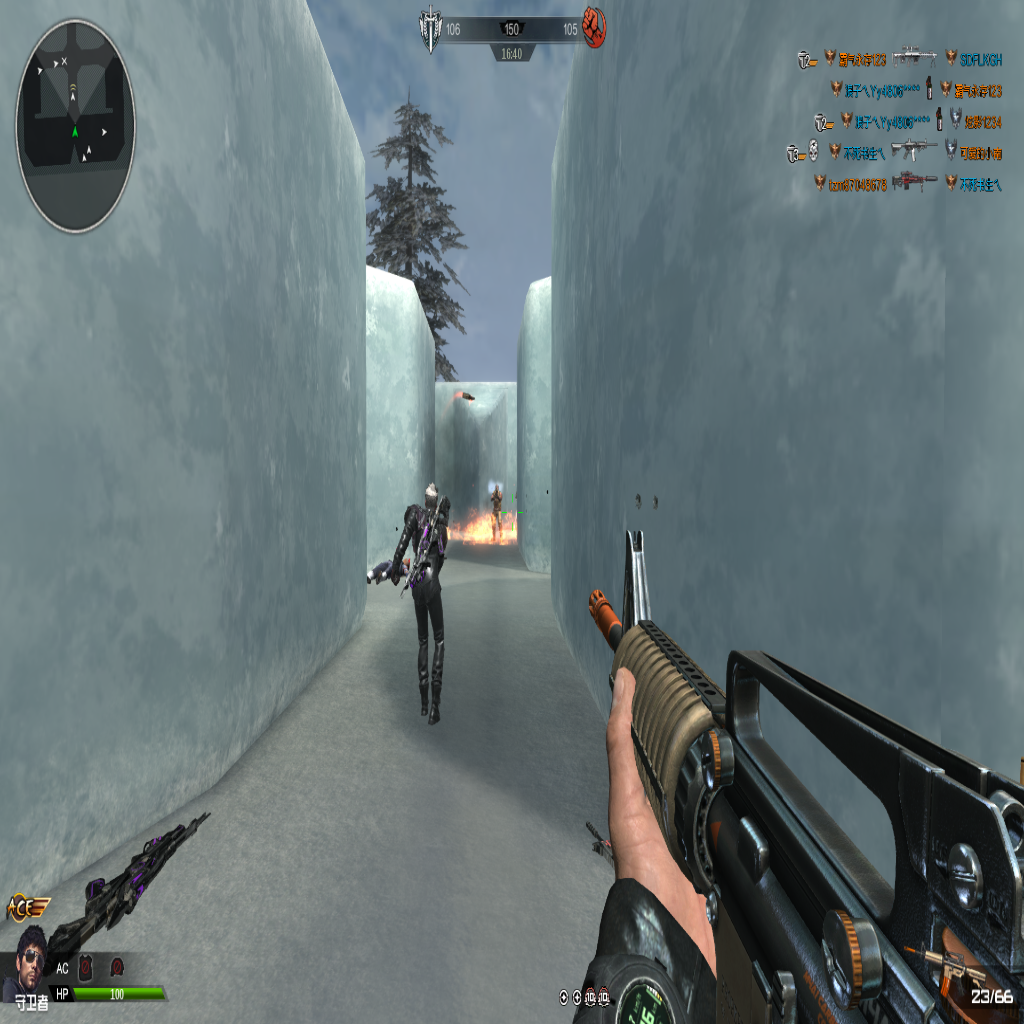ct: (367, 485, 450, 726)
tt: (491, 482, 503, 544)
